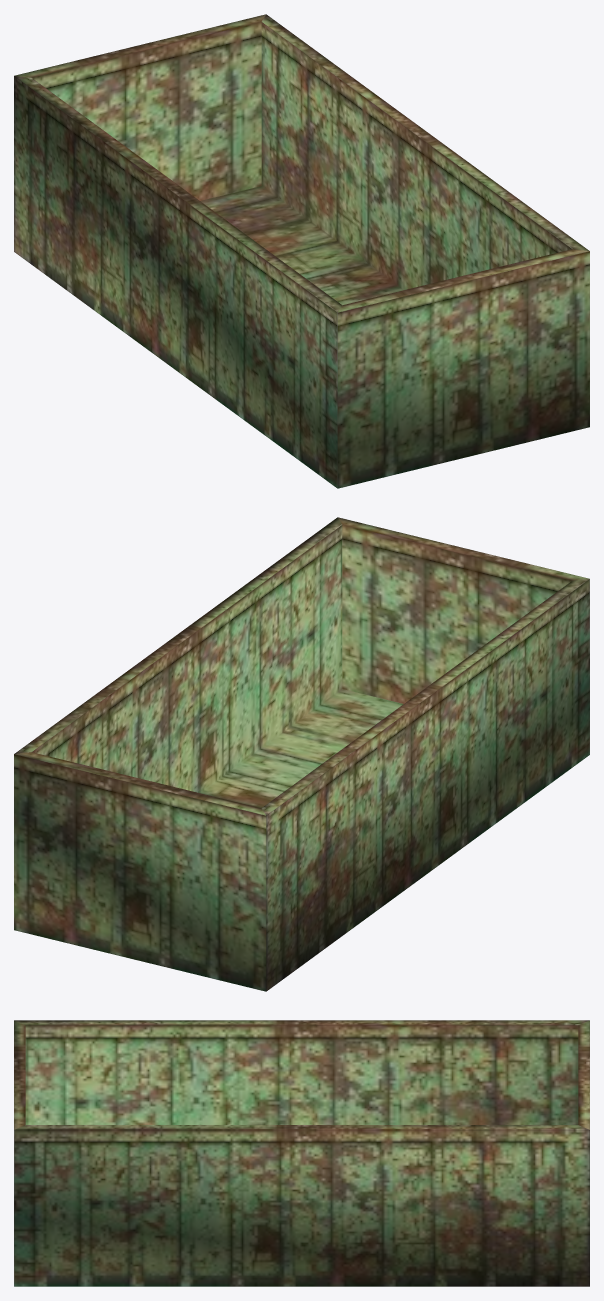
File: psx_industrial_pack_trash_container.glb
3 views of the same model, one above another, from view 1: azimuth 30°, elevation 25°; view 2: azimuth 150°, elevation 25°; view 3: azimuth 270°, elevation 25° (orthographic). The views are drawn at different scales.
Visible parts, largest first — view 1: TrashContainer; view 2: TrashContainer; view 3: TrashContainer.
Part boxes in pixels (left/top/right/bottom): TrashContainer: left=14, top=14, right=589, bottom=488; TrashContainer: left=14, top=517, right=589, bottom=991; TrashContainer: left=14, top=1020, right=589, bottom=1286.
Bounding box in the file's own units: 2.25 × 1.5 × 5.
1 material, 1 textured.
